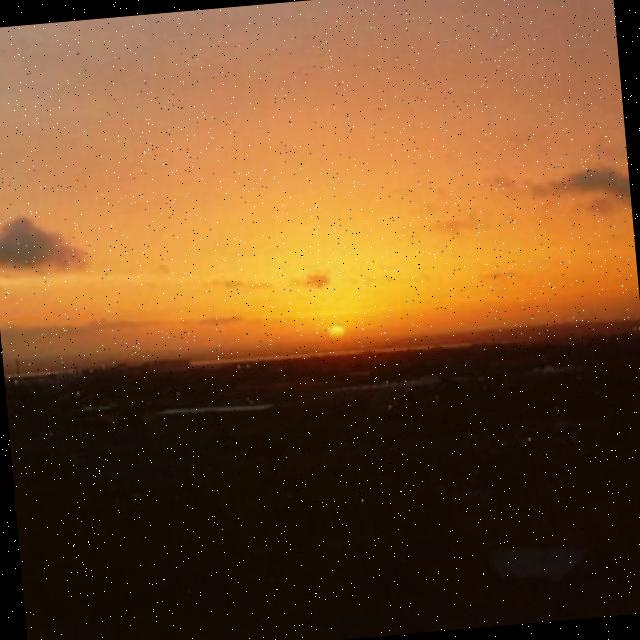St: (1, 1, 640, 373)
